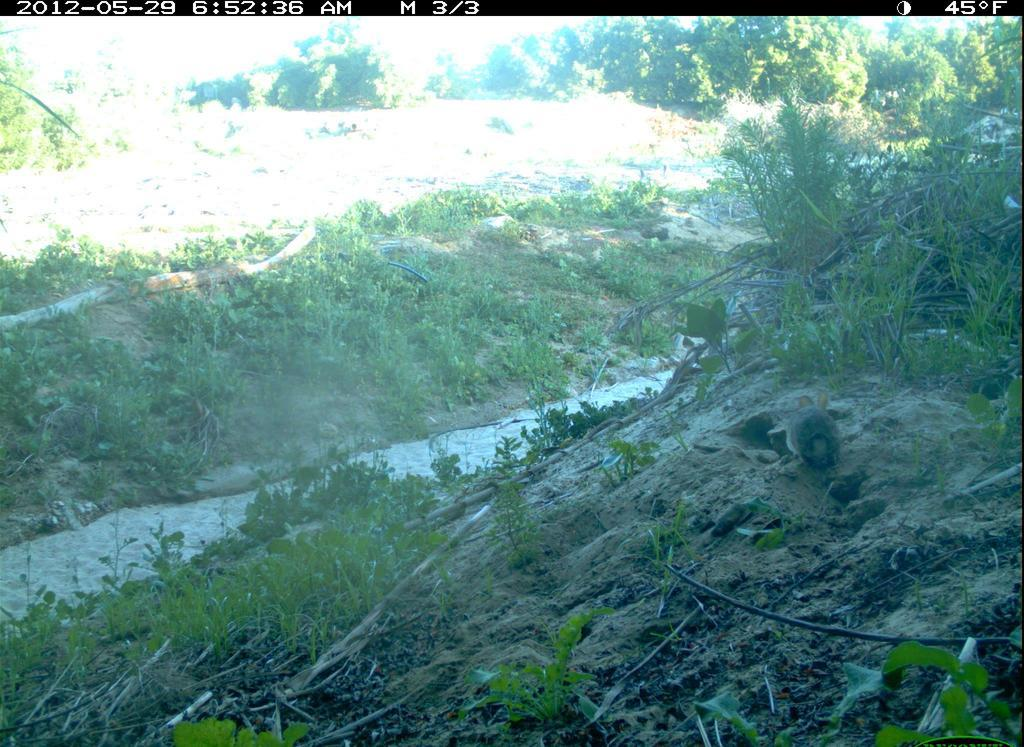rabbit: (788, 385, 847, 482)
